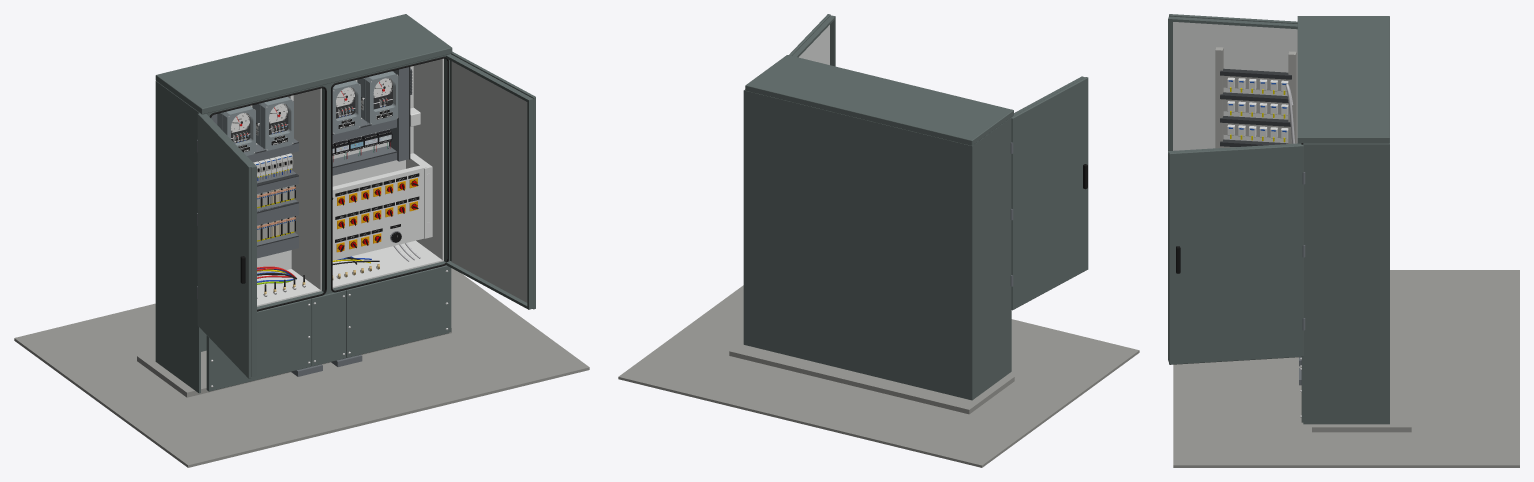
Rendered from FCC_Panel_1.glb.
3 renders of one model, left to right at view 1: azimuth 30°, elevation 25°; view 2: azimuth 150°, elevation 25°; view 3: azimuth 270°, elevation 25°, orthographic. The views are drawn at different scales.
Visible parts, largest first — view 1: Cabinet_Shell, Ground, Door_Right, Bay_Interior, Door_Left, SwingPlate_Body, RightBay_Frame, LeftBay_Frame, SwingPlate_CamSwitches, Plinth_Feet, OTI_F74_Housing, WTI_F72_Housing (+6 smaller); view 2: Cabinet_Shell, Ground, Door_Left, Plinth_Feet, Door_Right; view 3: Ground, Cabinet_Shell, Door_Right, Door_Left, Plinth_Feet.
Boxes of the visible parts, left/top/right/bottom form: Cabinet_Shell: left=155, top=14, right=452, bottom=393; Ground: left=14, top=268, right=589, bottom=467; Door_Right: left=446, top=51, right=535, bottom=309; Bay_Interior: left=250, top=58, right=443, bottom=306; Door_Left: left=197, top=113, right=256, bottom=378; SwingPlate_Body: left=332, top=153, right=432, bottom=260; RightBay_Frame: left=332, top=67, right=420, bottom=175; LeftBay_Frame: left=211, top=95, right=298, bottom=258; SwingPlate_CamSwitches: left=335, top=173, right=419, bottom=252; Plinth_Feet: left=137, top=327, right=451, bottom=397; OTI_F74_Housing: left=357, top=71, right=398, bottom=125; WTI_F72_Housing: left=252, top=96, right=293, bottom=150; Cabinet_Shell: left=743, top=55, right=1013, bottom=400; Ground: left=618, top=285, right=1139, bottom=467; Door_Left: left=1010, top=76, right=1088, bottom=310; Plinth_Feet: left=729, top=341, right=1014, bottom=414; Door_Right: left=789, top=14, right=835, bottom=66; Ground: left=1173, top=270, right=1519, bottom=467; Cabinet_Shell: left=1297, top=16, right=1389, bottom=424; Door_Right: left=1168, top=143, right=1305, bottom=364; Door_Left: left=1168, top=14, right=1301, bottom=150; Plinth_Feet: left=1299, top=298, right=1411, bottom=432.
Bounding box in the file's own units: 3.2 × 2.25 × 2.44.
58 materials, 4 textured.
